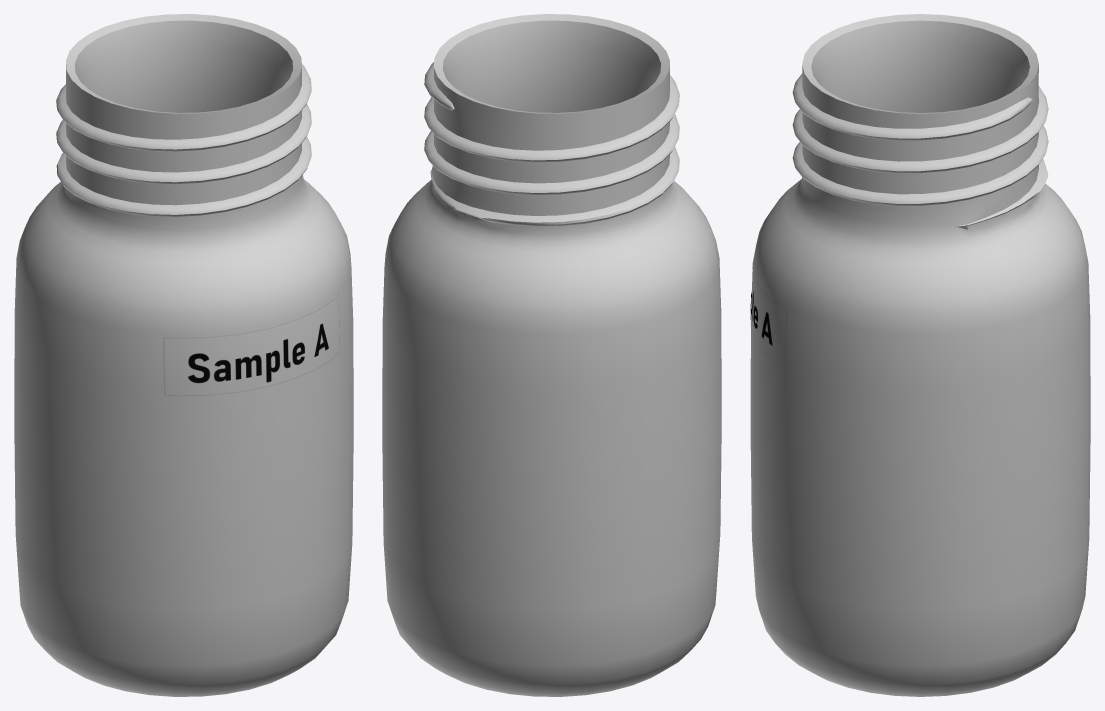
The model's file is sample bottle body.gltf.
The picture shows the model from 3 angles, left to right: view 1: azimuth 30°, elevation 25°; view 2: azimuth 150°, elevation 25°; view 3: azimuth 270°, elevation 25°; orthographic projection.
Parts seen in each view (by area): view 1: backup, sample A; view 2: backup; view 3: backup, sample A.
Boxes of the visible parts, left/top/right/bottom form: backup: left=14, top=14, right=353, bottom=696; sample A: left=163, top=294, right=339, bottom=395; backup: left=382, top=14, right=721, bottom=696; backup: left=750, top=14, right=1090, bottom=696; sample A: left=750, top=267, right=787, bottom=366.
Size of the model in its own units: 0.4929 by 0.9413 by 0.4933.
Materials: 2 (1 with a texture image).
